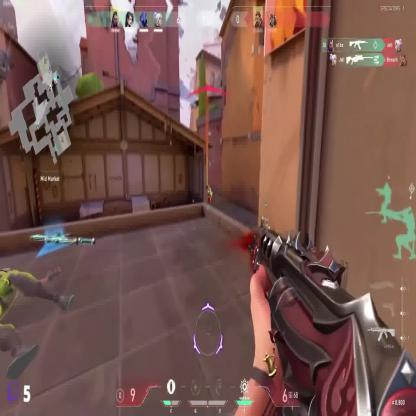enemy: (206, 184, 213, 206)
enemy_head: (208, 184, 210, 190)
